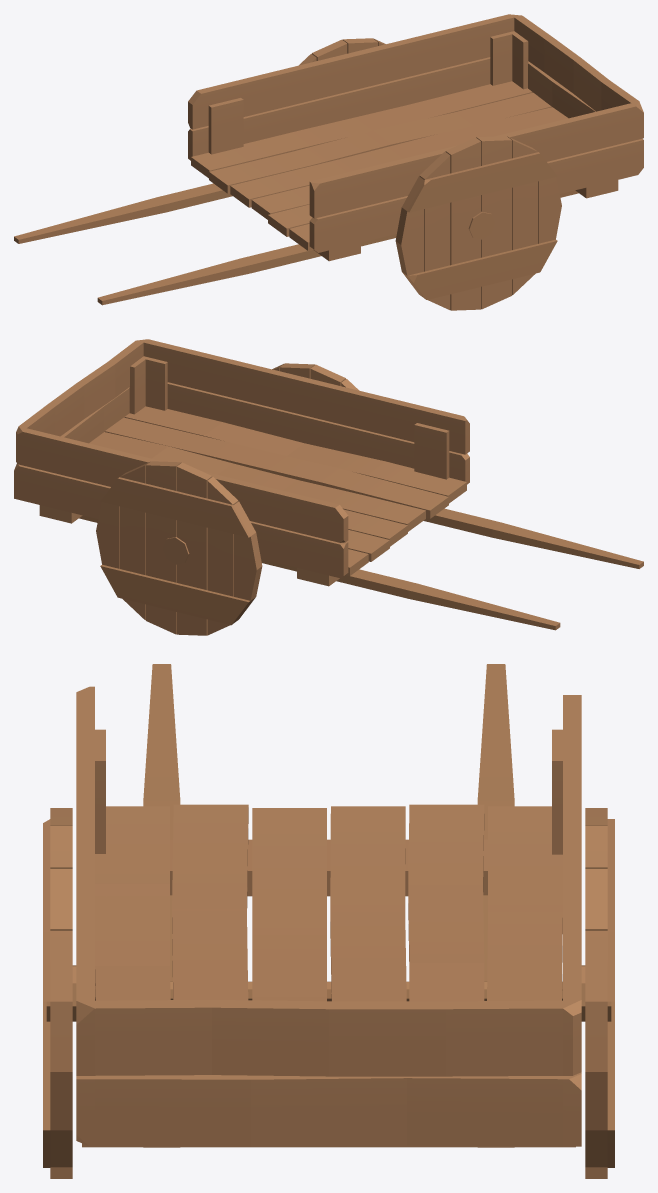
The model's file is SM_Cart_01.glb.
3 renders of one model, top to bottom at view 1: azimuth 30°, elevation 25°; view 2: azimuth 150°, elevation 25°; view 3: azimuth 270°, elevation 25°, orthographic. The views are drawn at different scales.
Parts seen in each view (by area): view 1: SM_Cart_01; view 2: SM_Cart_01; view 3: SM_Cart_01.
Boxes of the visible parts, x1,y1,x2,y2 form: SM_Cart_01: (14, 14, 643, 310); SM_Cart_01: (14, 339, 643, 635); SM_Cart_01: (43, 664, 614, 1178).
Size of the model in its own units: 3.25 by 0.999 by 1.54.
Materials: 1 (1 with a texture image).
